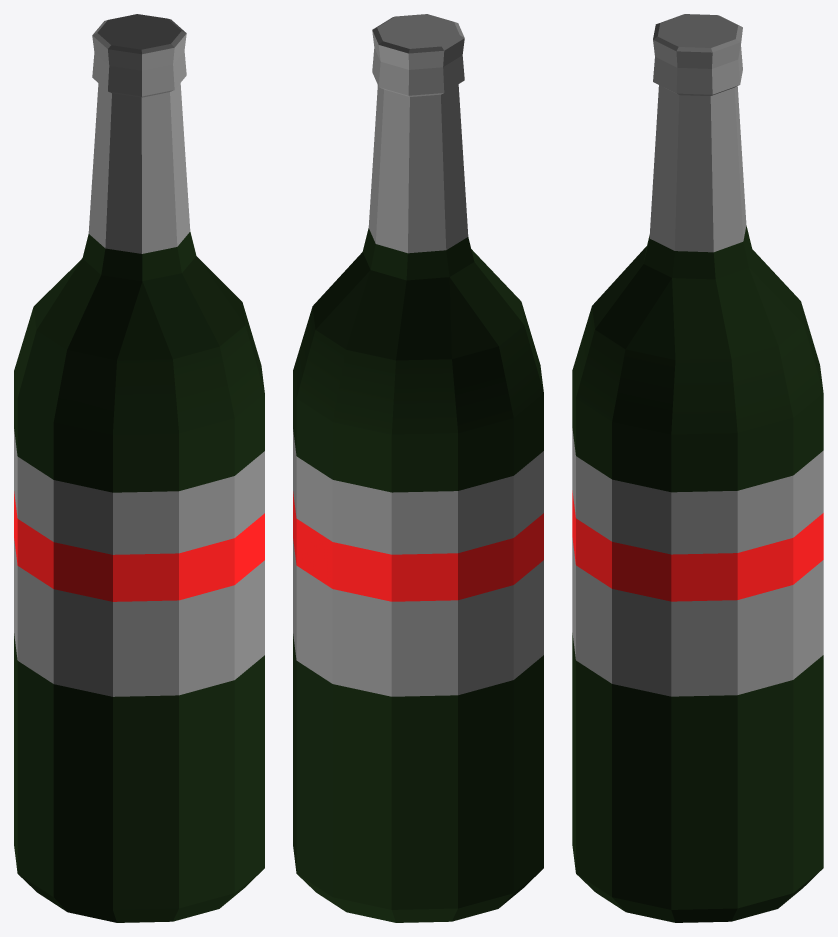
Rendered from Bottle 14.fbx.
The picture shows the model from 3 angles, left to right: view 1: azimuth 30°, elevation 25°; view 2: azimuth 150°, elevation 25°; view 3: azimuth 270°, elevation 25°; orthographic projection.
Parts seen in each view (by area): view 1: Node 0; view 2: Node 0; view 3: Node 0.
Part boxes in pixels (bbox=[...]): Node 0: bbox=[14, 14, 264, 922]; Node 0: bbox=[293, 14, 543, 922]; Node 0: bbox=[572, 14, 823, 922].
Bounding box in the file's own units: 0.0758 × 0.2823 × 0.0758.
